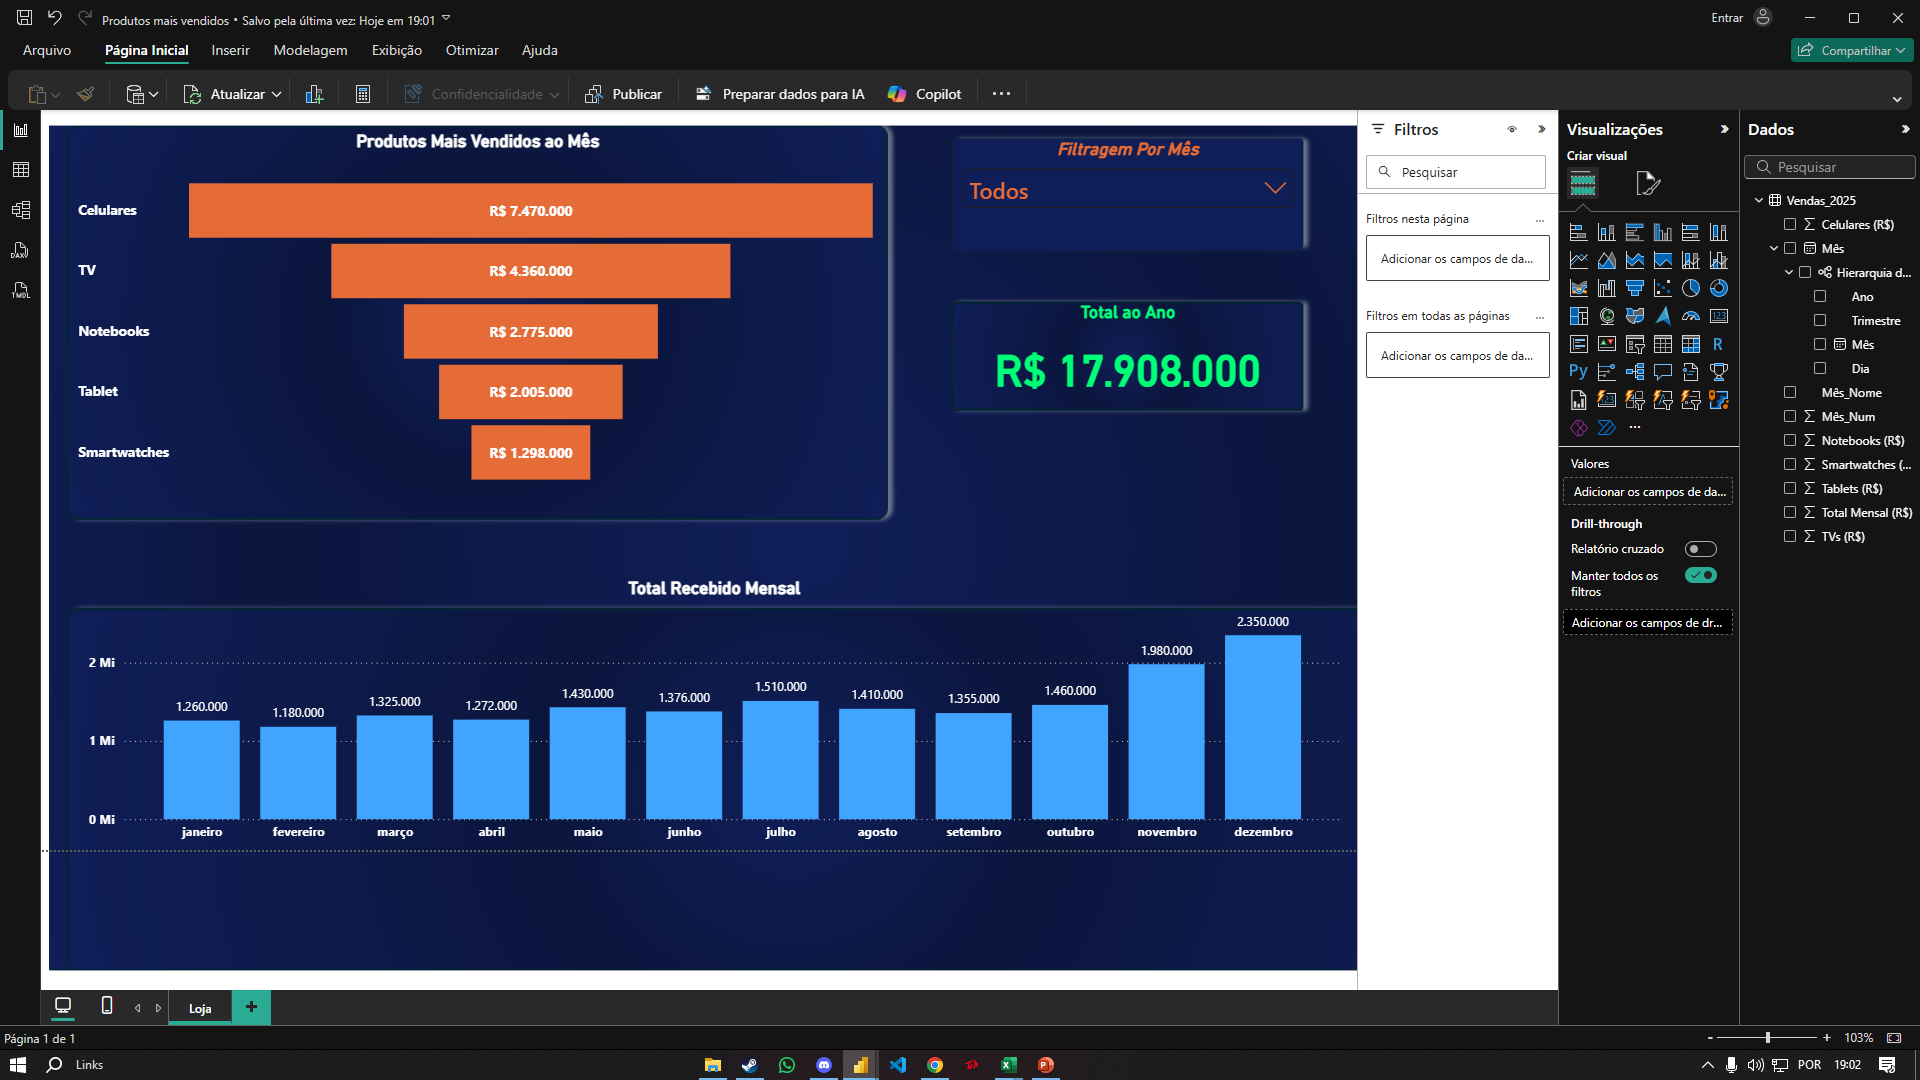

The page's visual inventory and layout, read from the dashboard file:
{"tool":"powerbi","page":{"name":"Loja","canvas":[1280,720],"ordinal":0},"visuals":[{"type":"slicer","title":"Filtragem Por Mês","fields":{"Values":["Vendas_2025.Mês.Variation.Hierarquia de datas.Mês"]},"box":[879,0,332.7,92.8],"z":0},{"type":"funnel","title":"Produtos Mais Vendidos ao Mês","fields":{"Y":["Sum(Vendas_2025.Celulares (R$))","Sum(Vendas_2025.TVs (R$))","Sum(Vendas_2025.Notebooks (R$))","Sum(Vendas_2025.Tablets (R$))","Sum(Vendas_2025.Smartwatches (R$))"]},"box":[32.4,0,774.8,359.8],"z":1},{"type":"clusteredColumnChart","title":"Total Recebido Mensal","fields":{"Category":["Vendas_2025.Mês.Variation.Hierarquia de datas.Mês"],"Y":["Sum(Vendas_2025.Total Mensal (R$))"]},"box":[32.4,447.4,1241.5,272.3],"z":2},{"type":"card","title":"Total ao Ano","fields":{"Values":["Sum(Vendas_2025.Total Mensal (R$))"]},"box":[879,146.2,332.7,108.6],"z":3}]}

Visuals, with their boxes on the page's 1280x720 design canvas (x1, y1, x2, y2). These are canvas units, not pixel positions in the 1920x1080 screenshot, which may show the page scaled, cropped or inside an application window:
"Filtragem Por Mês" slicer: {"x1": 879, "y1": 0, "x2": 1212, "y2": 93}
"Produtos Mais Vendidos ao Mês" funnel: {"x1": 32, "y1": 0, "x2": 807, "y2": 360}
"Total Recebido Mensal" clusteredColumnChart: {"x1": 32, "y1": 447, "x2": 1274, "y2": 720}
"Total ao Ano" card: {"x1": 879, "y1": 146, "x2": 1212, "y2": 255}
